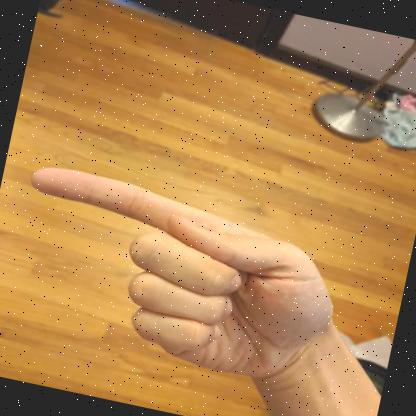G: (30, 167, 336, 397)
